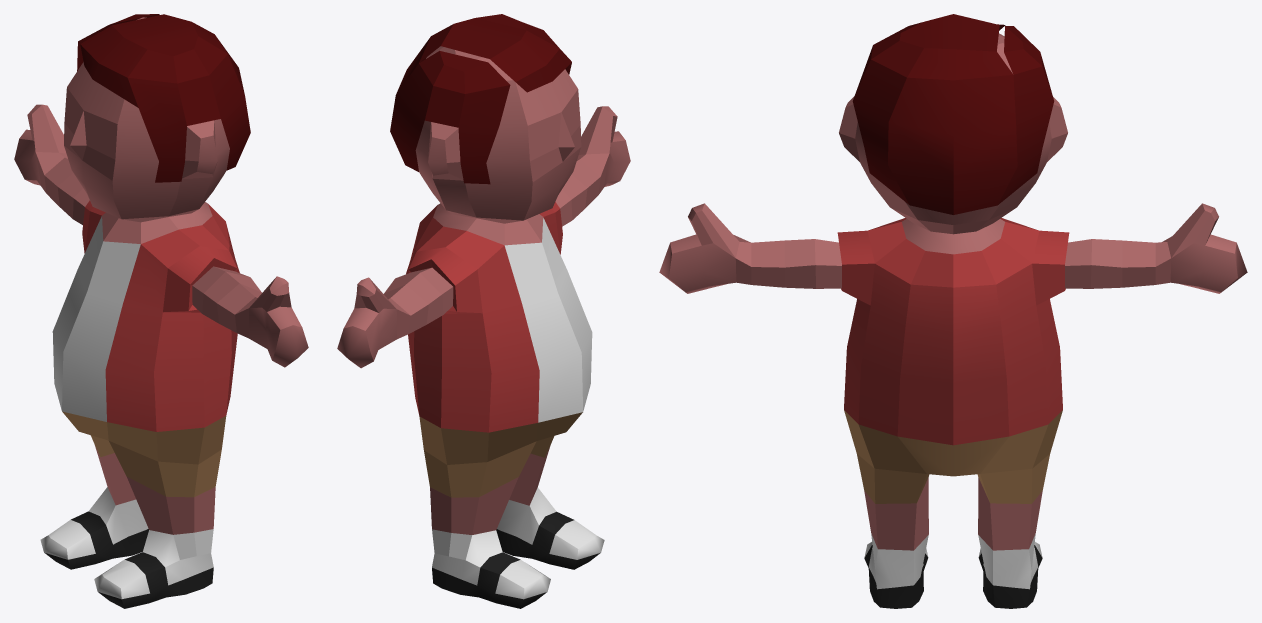
The model's file is Dad.fbx.
3 views of the same model, side by side, from view 1: azimuth 30°, elevation 25°; view 2: azimuth 150°, elevation 25°; view 3: azimuth 270°, elevation 25° (orthographic). The views are drawn at different scales.
Visible parts, largest first — view 1: RedBoi, Hair; view 2: RedBoi, Hair; view 3: RedBoi, Hair.
Part boxes in pixels (x1,y1,x2,y2): RedBoi: [14, 17, 308, 608]; Hair: [77, 14, 250, 182]; RedBoi: [337, 46, 630, 608]; Hair: [390, 14, 571, 184]; RedBoi: [659, 33, 1247, 608]; Hair: [852, 14, 1054, 214].
Size of the model in its own units: 1.99 by 5.6 by 5.28.
